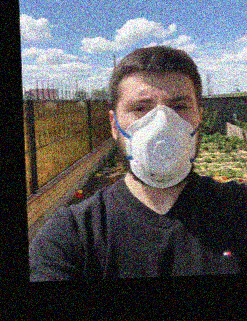with_mask: (120, 87, 200, 189)
